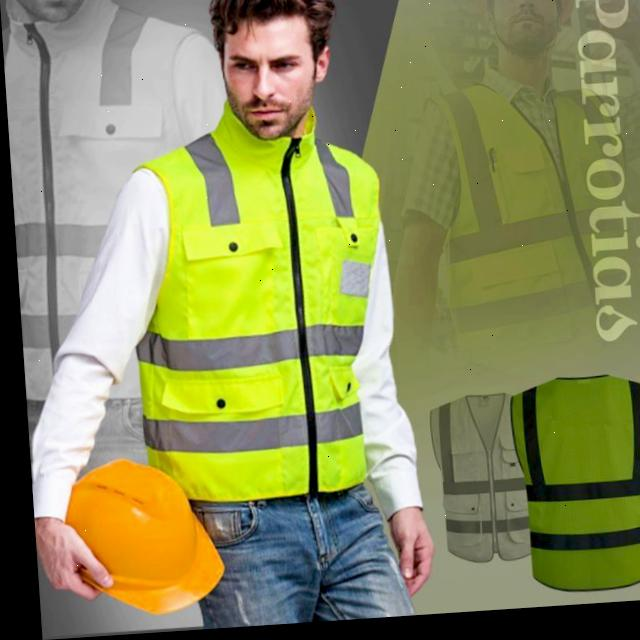helmet: (57, 464, 222, 618)
vest: (134, 147, 369, 498)
